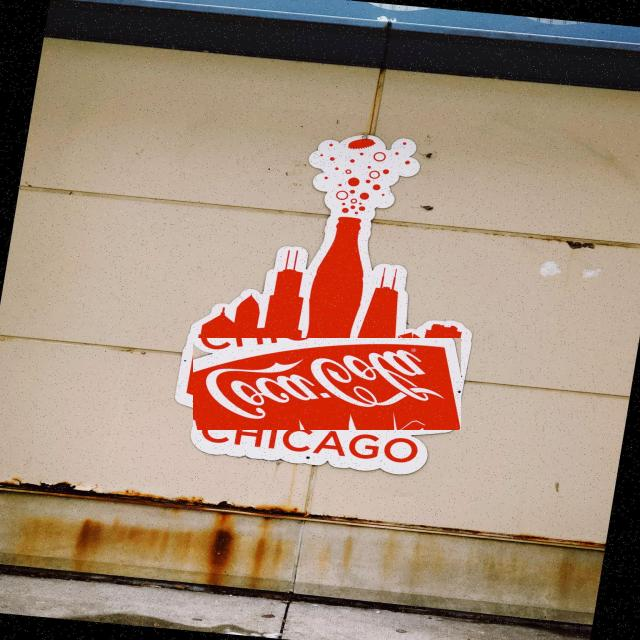coca-cola: (194, 338, 462, 430)
